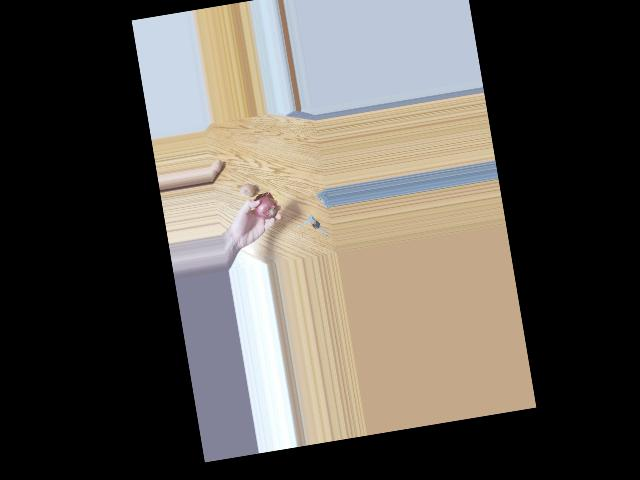onion: (237, 180, 255, 199)
